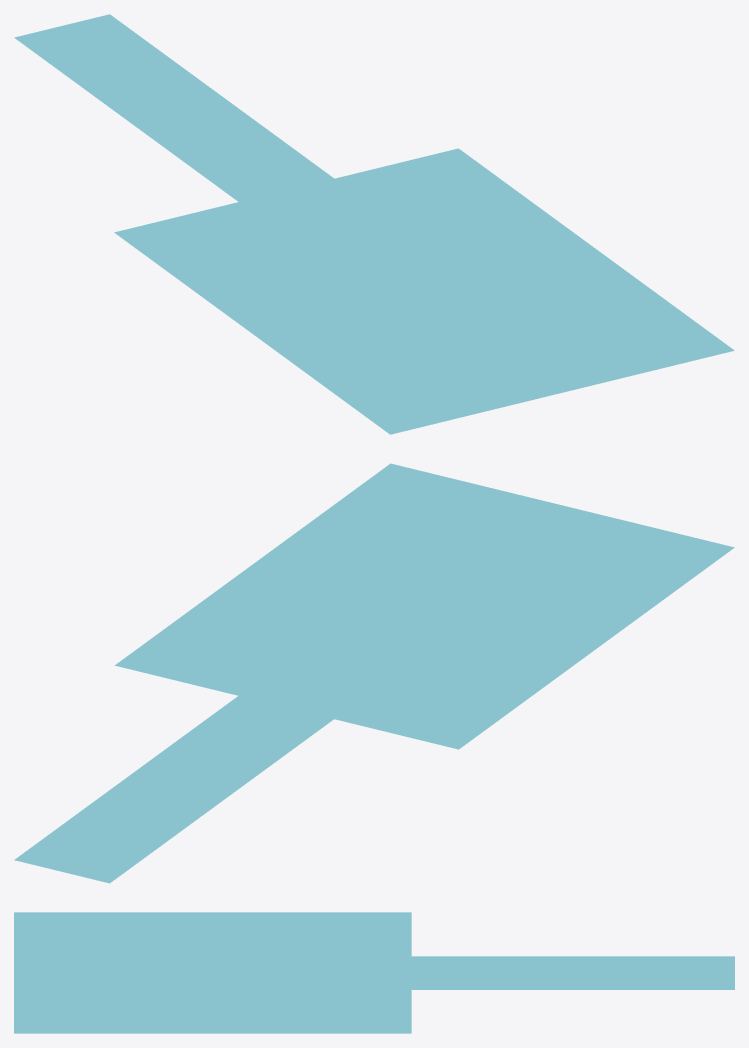
Rendered from WaterPlane.fbx.
3 renders of one model, top to bottom at view 1: azimuth 30°, elevation 25°; view 2: azimuth 150°, elevation 25°; view 3: azimuth 270°, elevation 25°, orthographic. The views are drawn at different scales.
Visible parts, largest first — view 1: Water; view 2: Water; view 3: Water.
Boxes of the visible parts, x1=… form: Water: x1=14, y1=14, x2=734, y2=434; Water: x1=14, y1=463, x2=734, y2=883; Water: x1=14, y1=912, x2=734, y2=1033.
Bounding box in the file's own units: 1093 × 0 × 2752.
